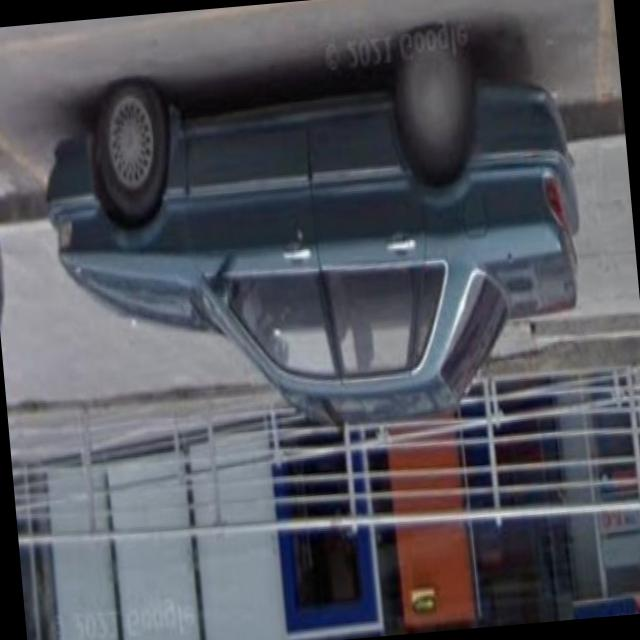car: (46, 34, 594, 444)
